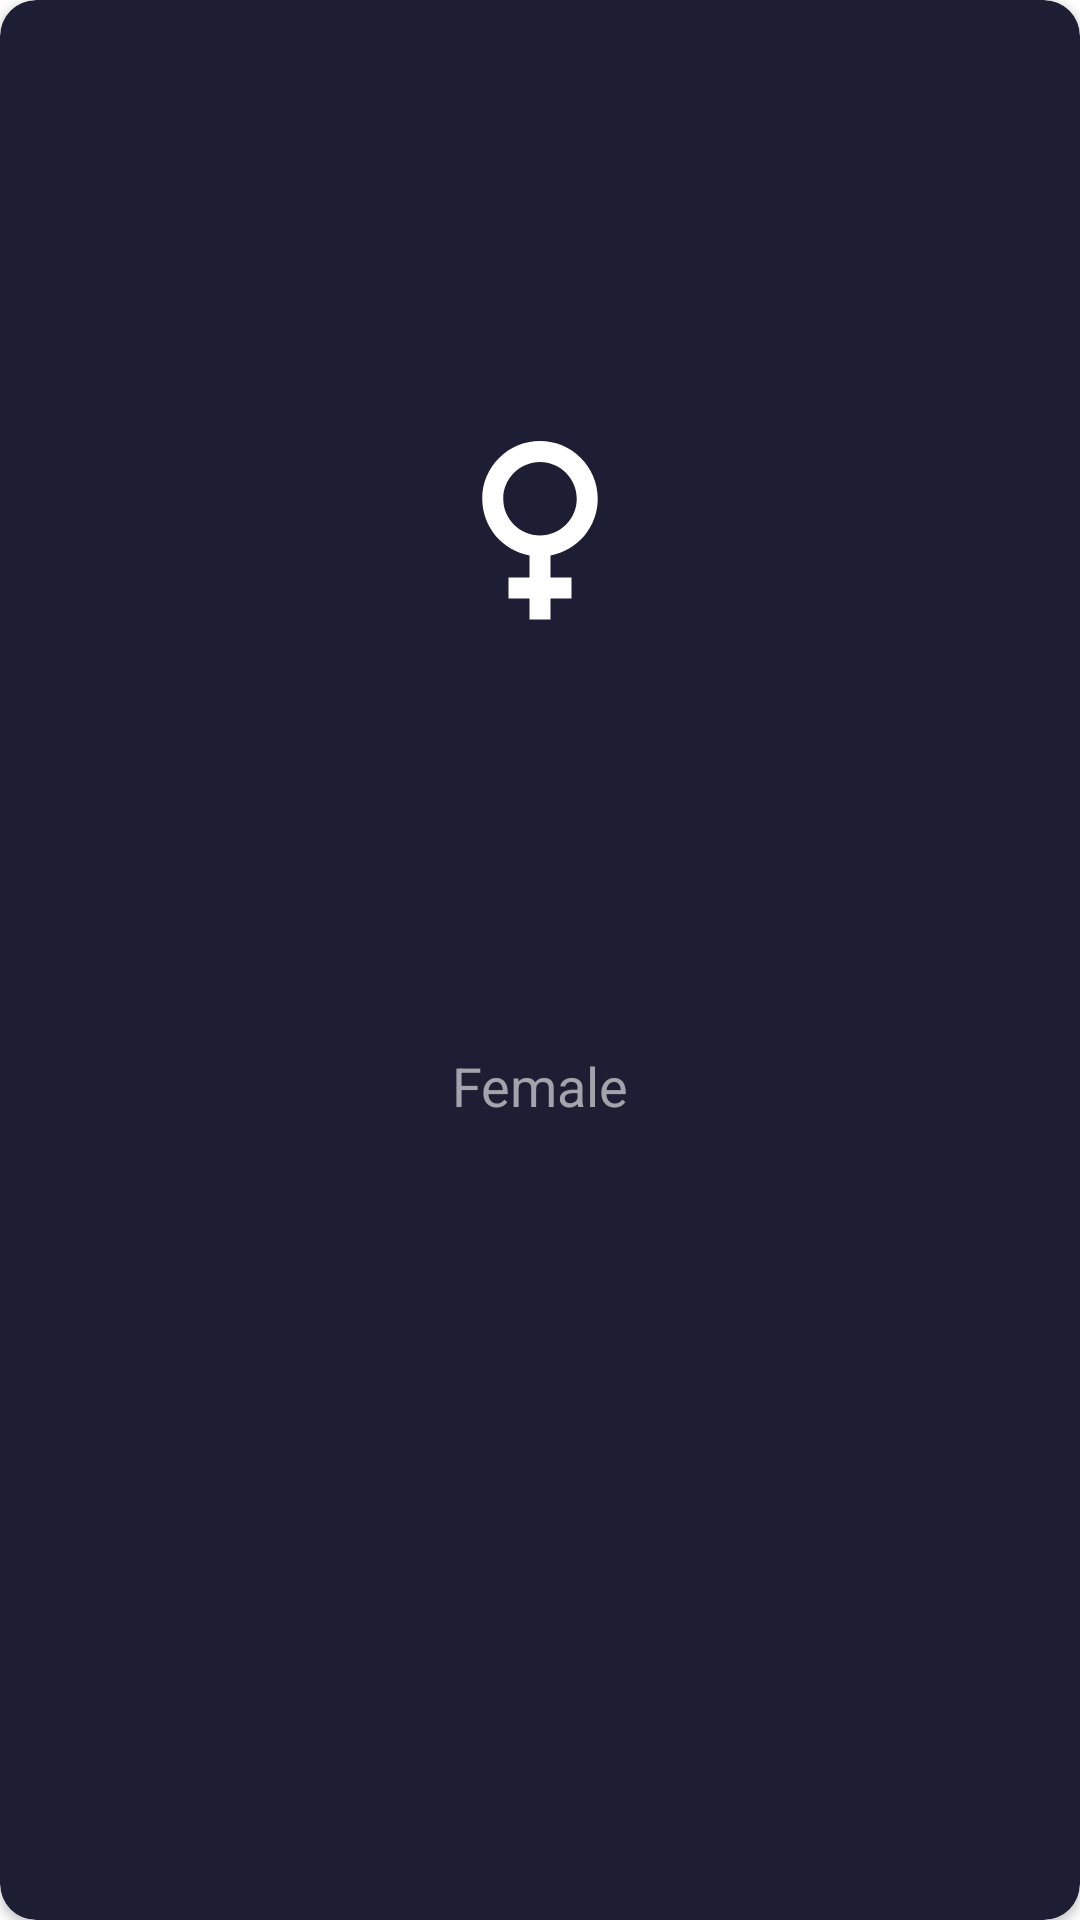

Where icons sit on this 1080px×1920px app screen, as (x1, y1, x2, y2):
Icon of gender: (482, 441, 598, 620)
